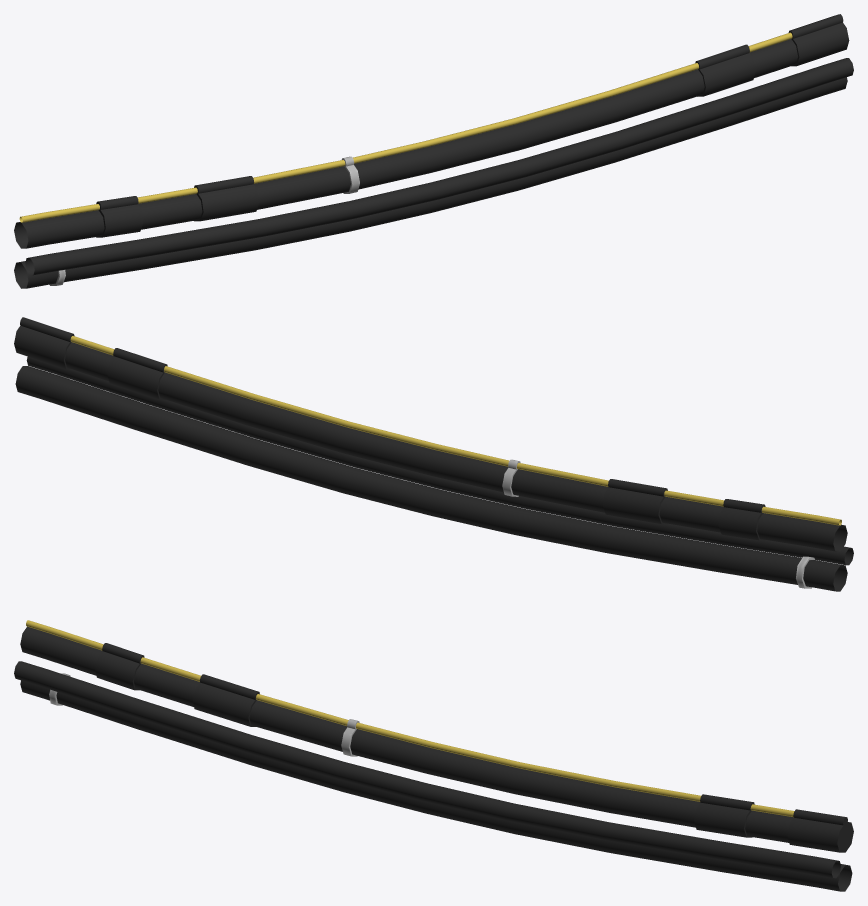
Rendered from ElectricalWires03_10.glb.
3 views of the same model, one above another, from view 1: azimuth 30°, elevation 25°; view 2: azimuth 150°, elevation 25°; view 3: azimuth 330°, elevation 25° (orthographic).
Parts seen in each view (by area): view 1: NurbsPath_010; view 2: NurbsPath_010; view 3: NurbsPath_010.
Boxes of the visible parts, x1,y1,x2,y2 form: NurbsPath_010: (14,14,853,288); NurbsPath_010: (14,317,853,591); NurbsPath_010: (14,620,853,891).
Bounding box in the file's own units: 3.84 × 0.4377 × 0.1792.
1 material, 1 textured.
